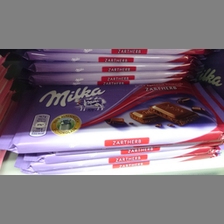chocolate: (17, 84, 219, 151)
